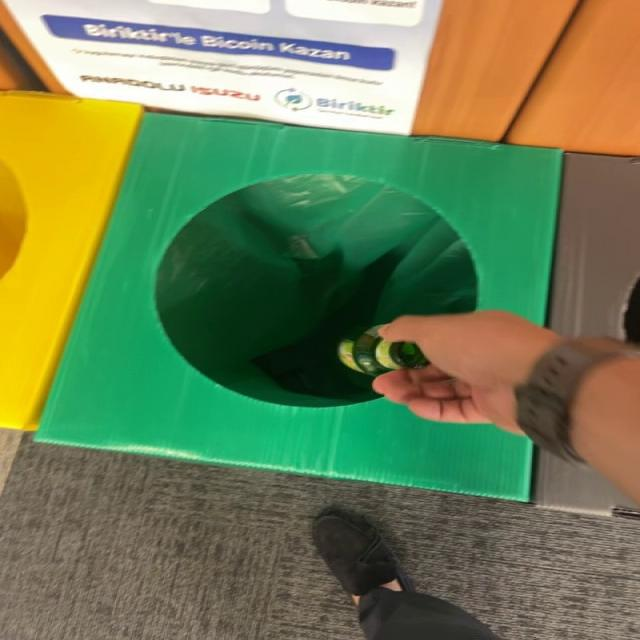glass: (337, 325, 429, 376)
